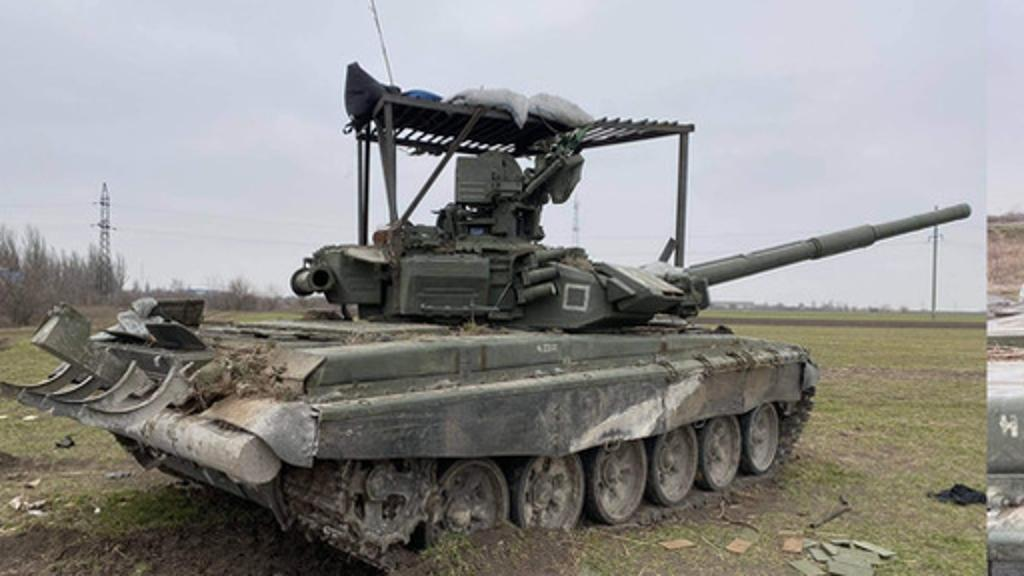TANK: (50, 76, 976, 562)
